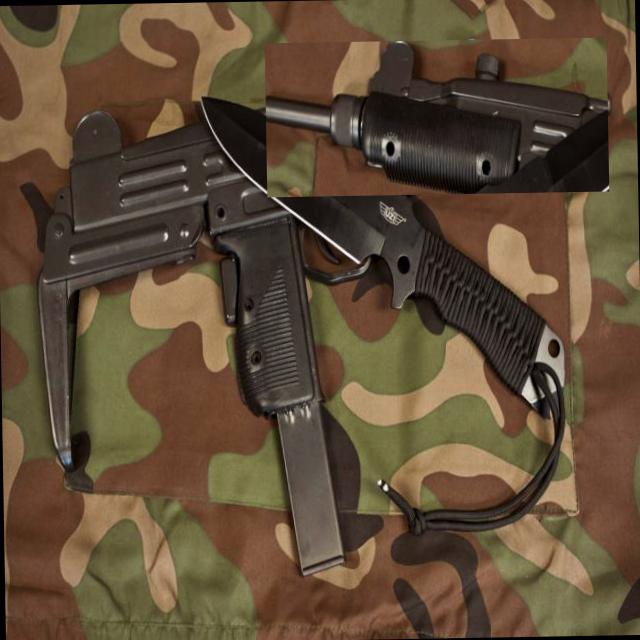Gun: (38, 110, 339, 564), (265, 41, 607, 193)
Knife: (202, 99, 563, 404)
